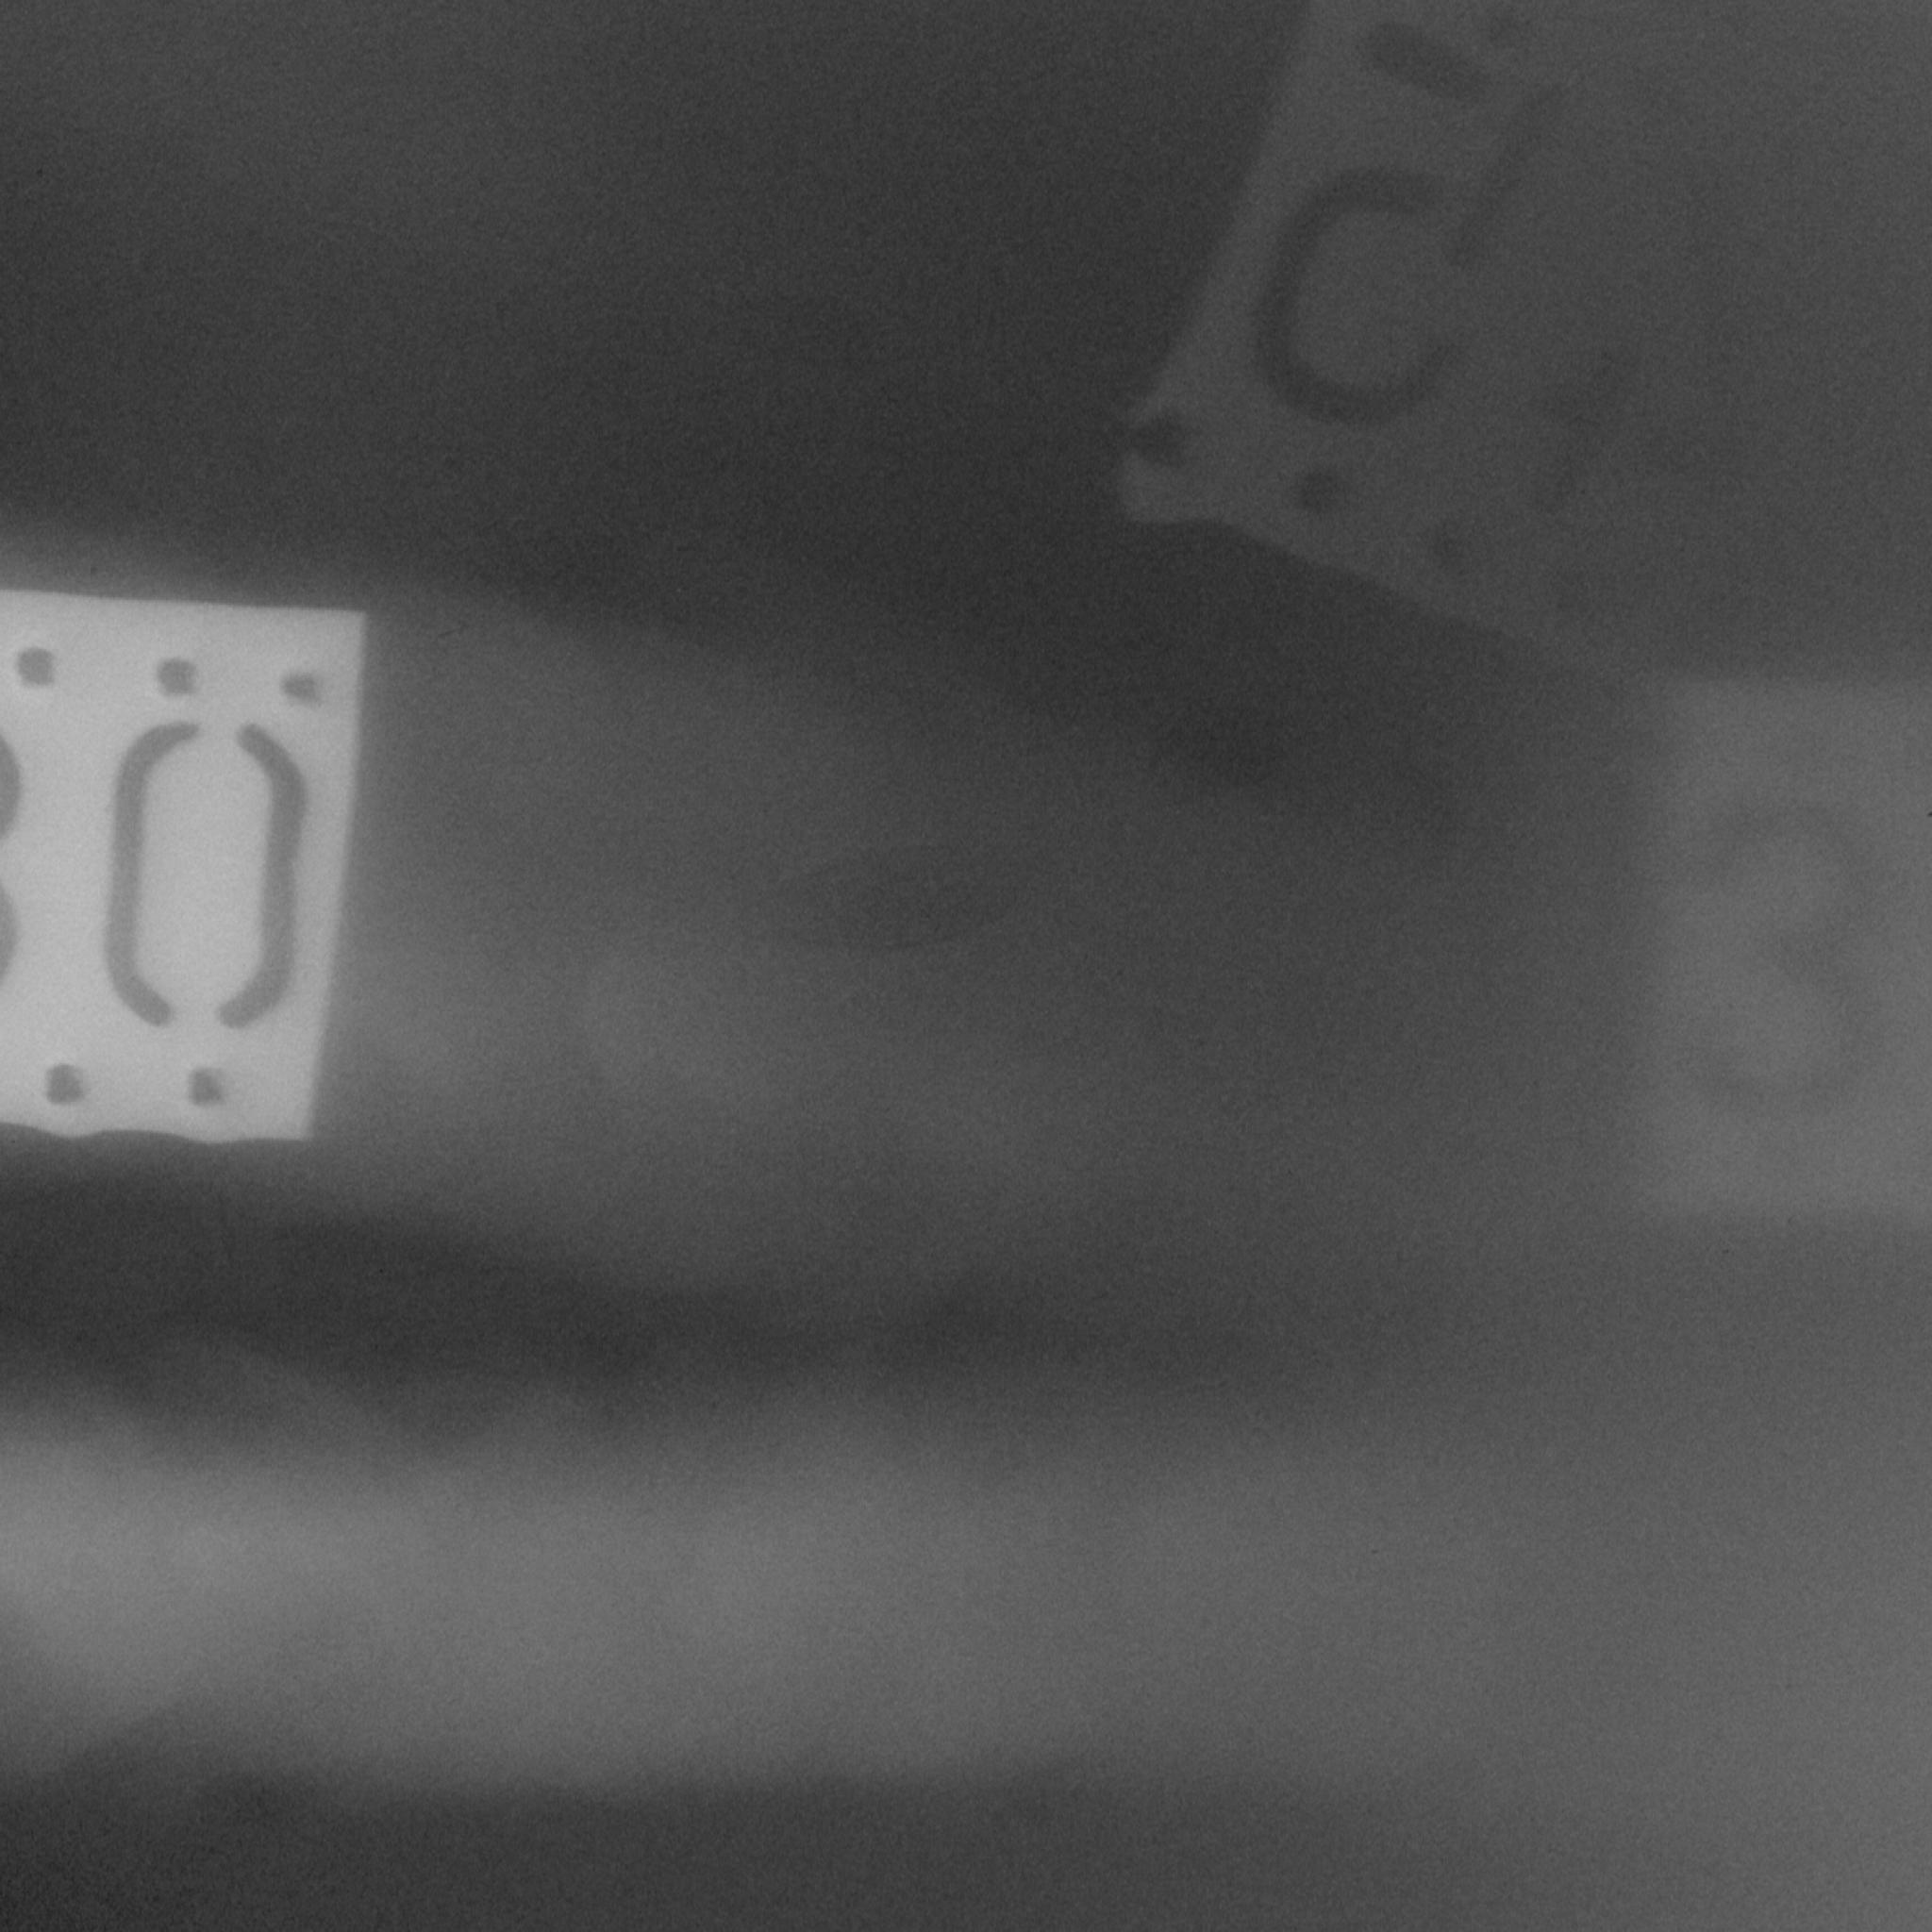FF: (94, 1311, 485, 1867)
